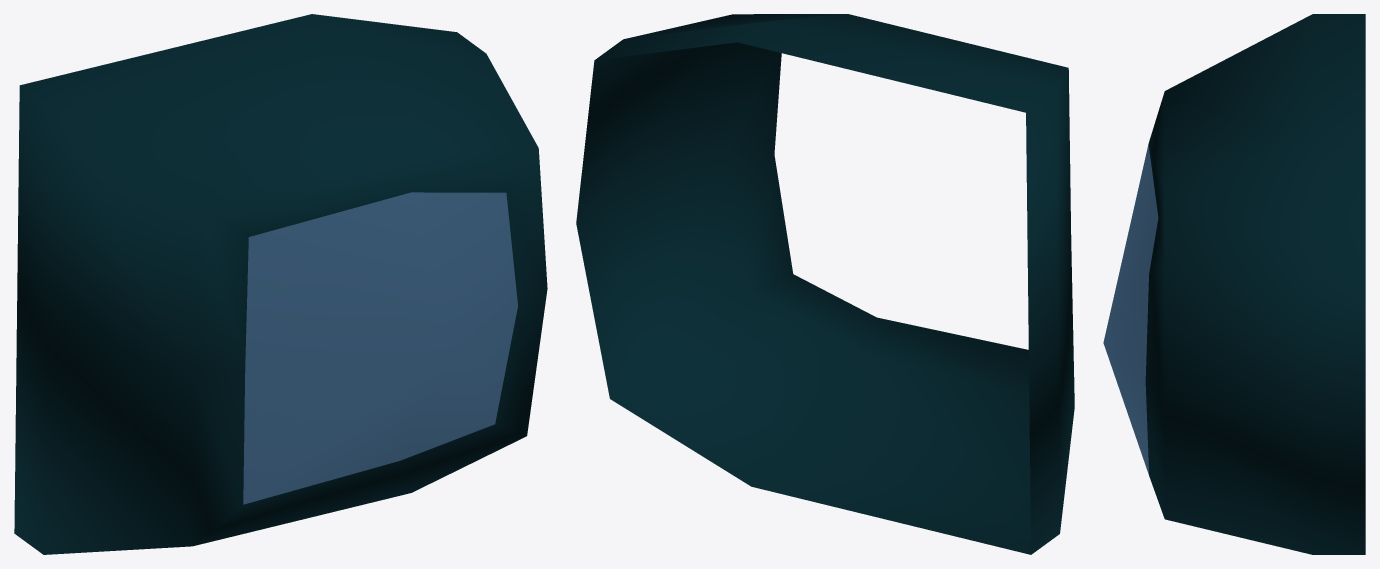
Rendered from ButtonForward.glb.
The picture shows the model from 3 angles, left to right: view 1: azimuth 30°, elevation 25°; view 2: azimuth 150°, elevation 25°; view 3: azimuth 270°, elevation 25°; orthographic projection. The views are drawn at different scales.
Parts seen in each view (by area): view 1: ButtonForward; view 2: ButtonForward; view 3: ButtonForward.
Boxes of the visible parts, bbox=[...] form: ButtonForward: bbox=[14, 14, 547, 554]; ButtonForward: bbox=[576, 14, 1074, 554]; ButtonForward: bbox=[1103, 14, 1365, 554].
Size of what is drawn, in the model's own units: 0.1834 by 0.1699 by 0.1.
2 materials, 2 textured.
